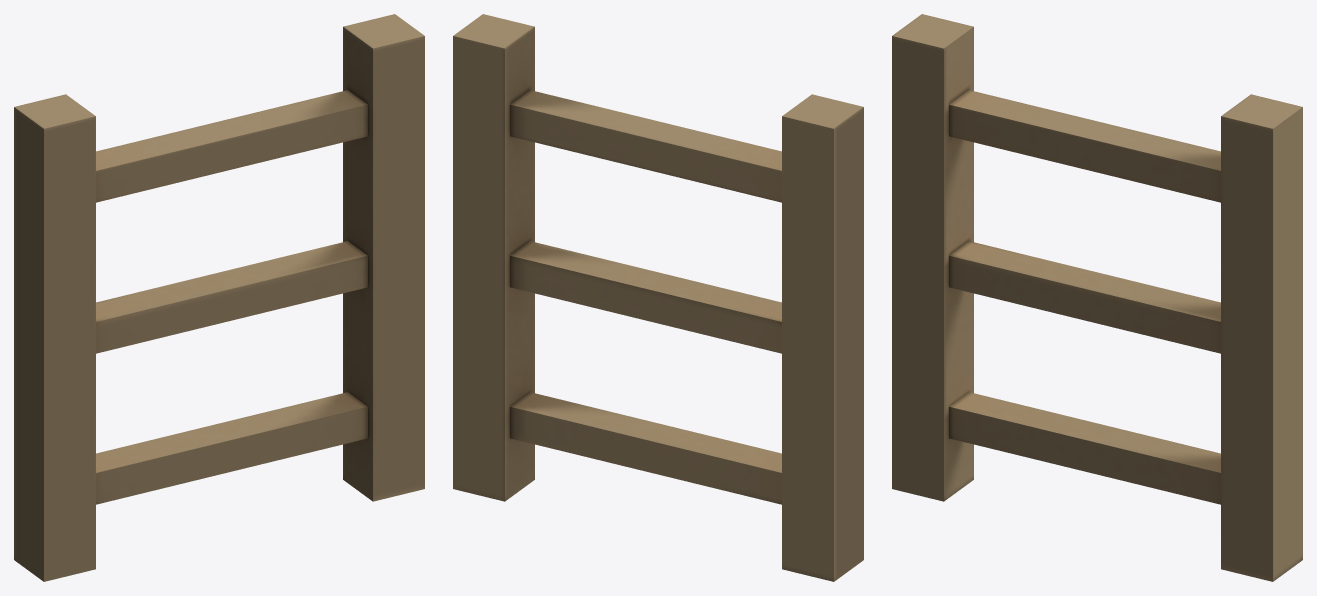
File: ladder.glb
3 renders of one model, left to right at view 1: azimuth 30°, elevation 25°; view 2: azimuth 150°, elevation 25°; view 3: azimuth 330°, elevation 25°, orthographic.
Parts seen in each view (by area): view 1: ladder; view 2: ladder; view 3: ladder.
Part boxes in pixels (x1,y1,x2,y2): ladder: [14, 14, 424, 581]; ladder: [453, 14, 863, 581]; ladder: [892, 14, 1302, 581].
Size of the model in its own units: 0.88 by 1 by 0.12.
Materials: 1 (1 with a texture image).
